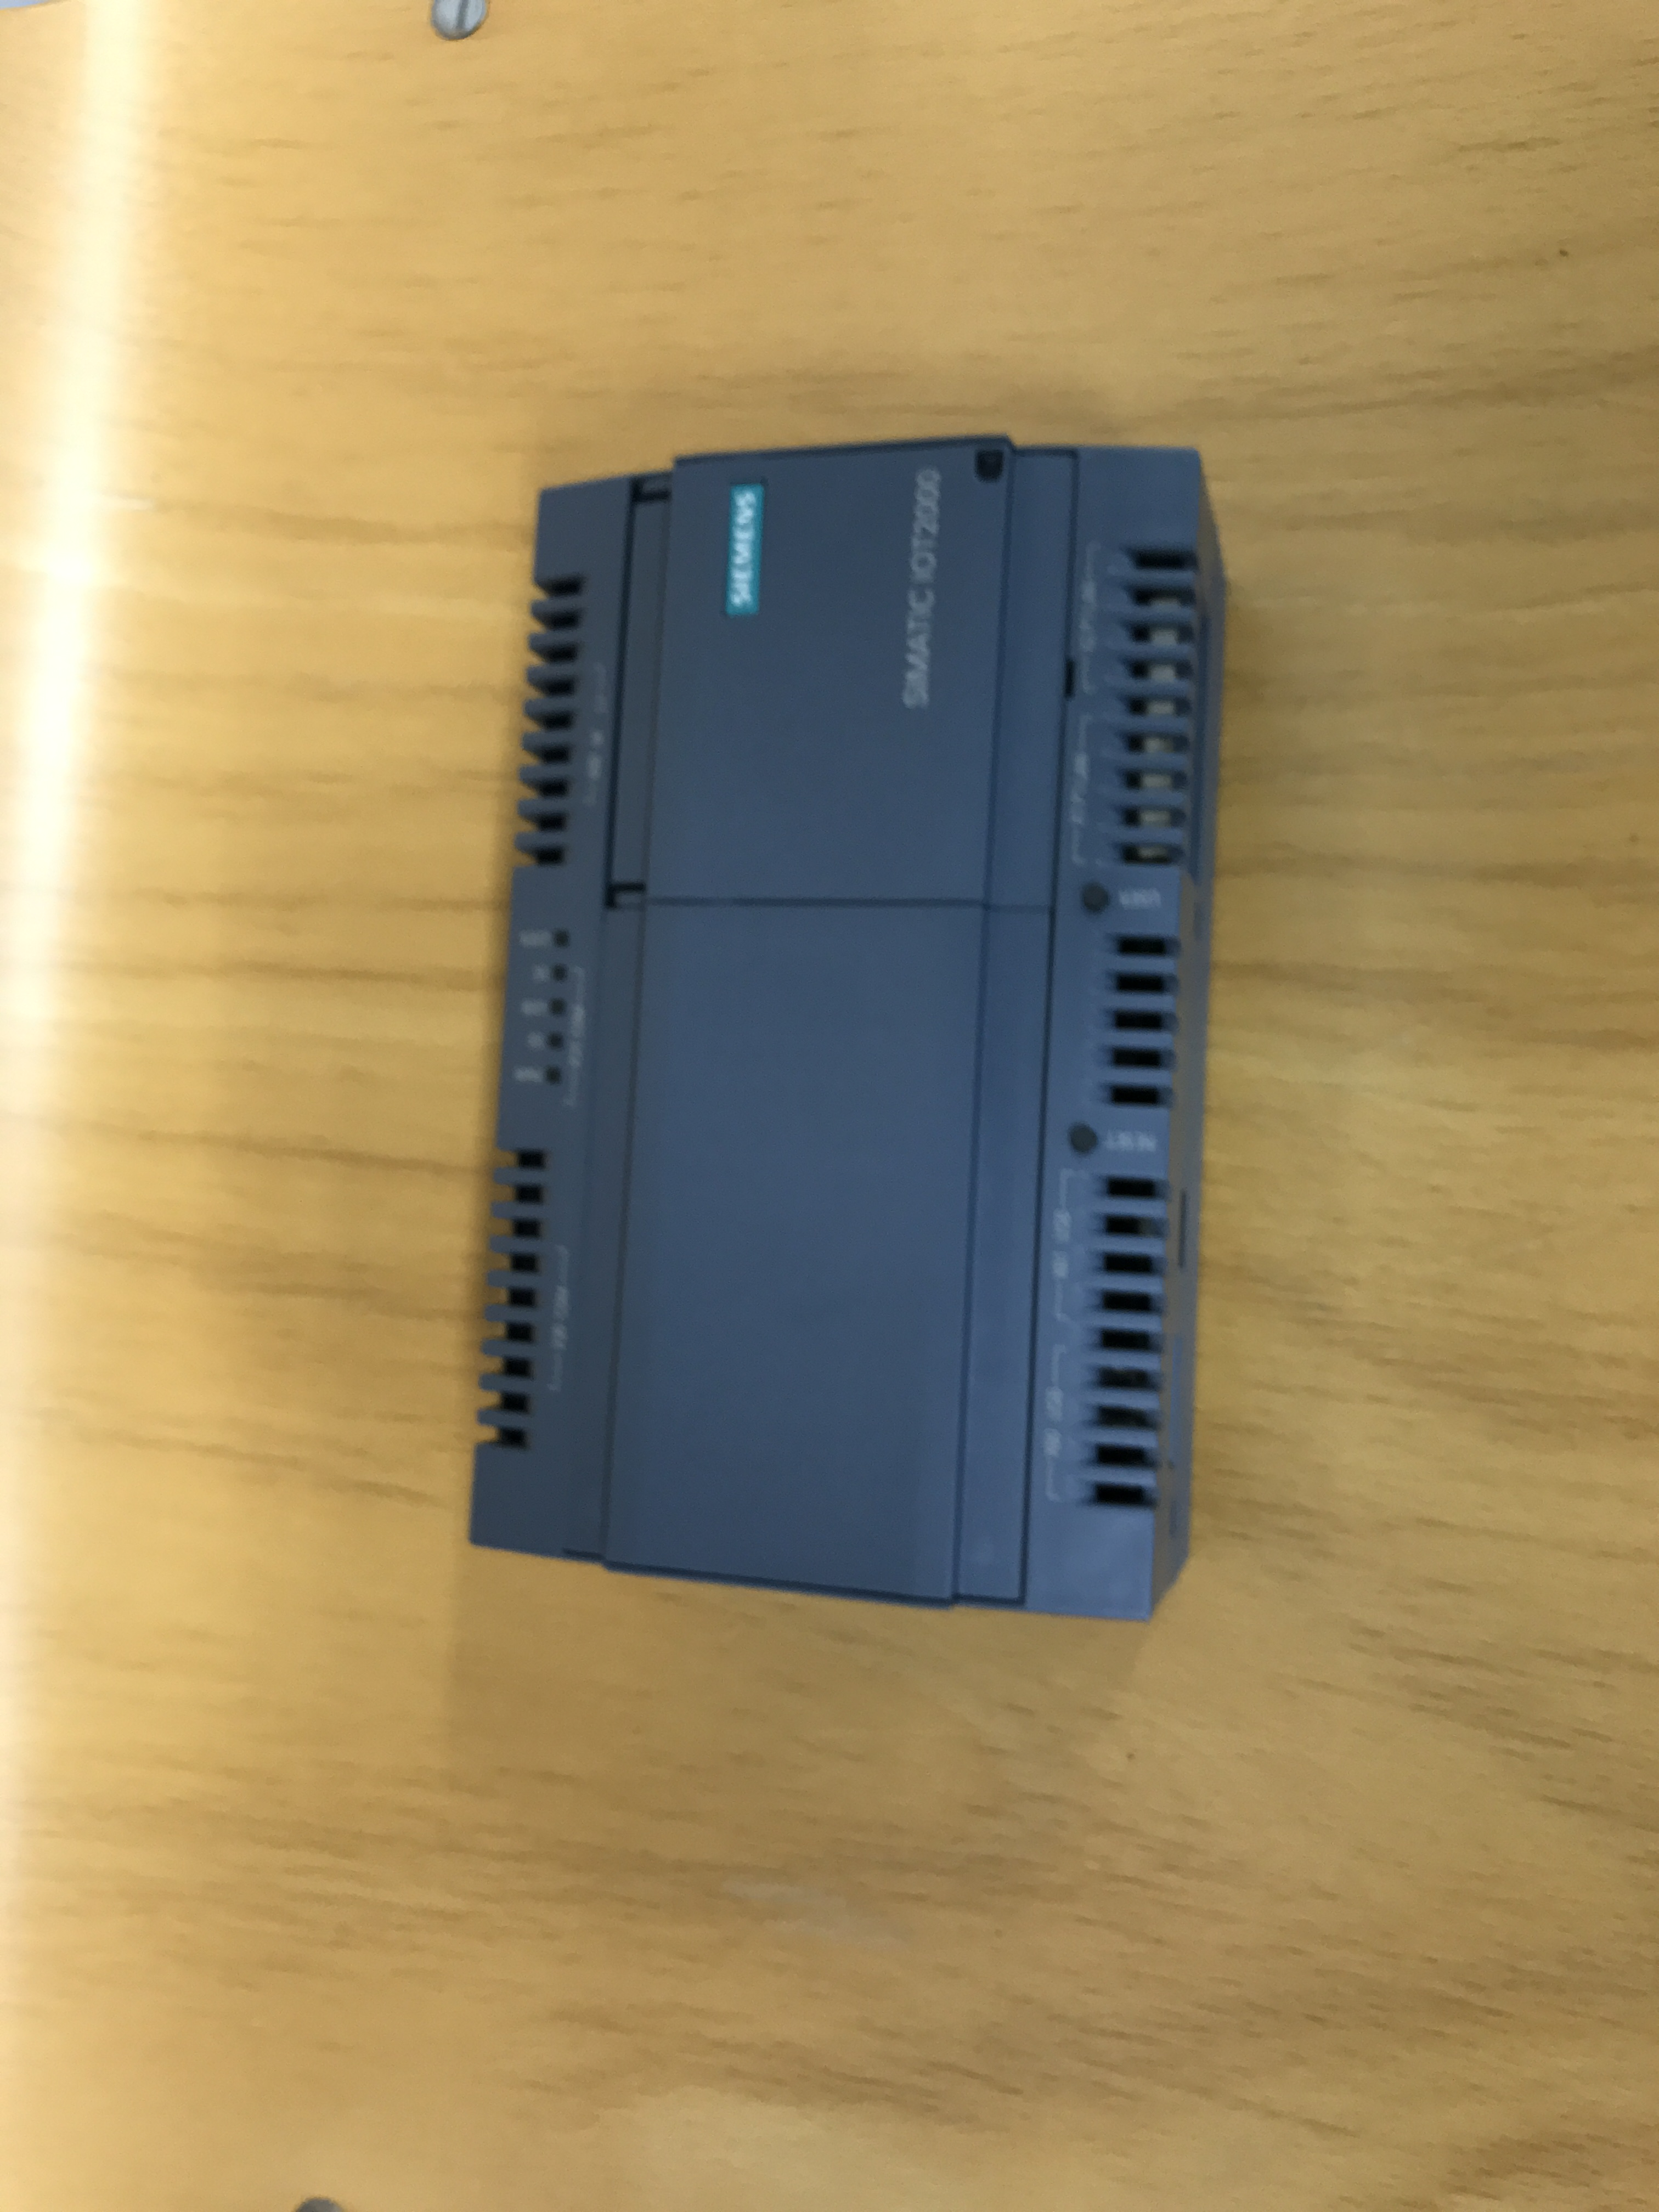device: (462, 432, 1230, 1625)
